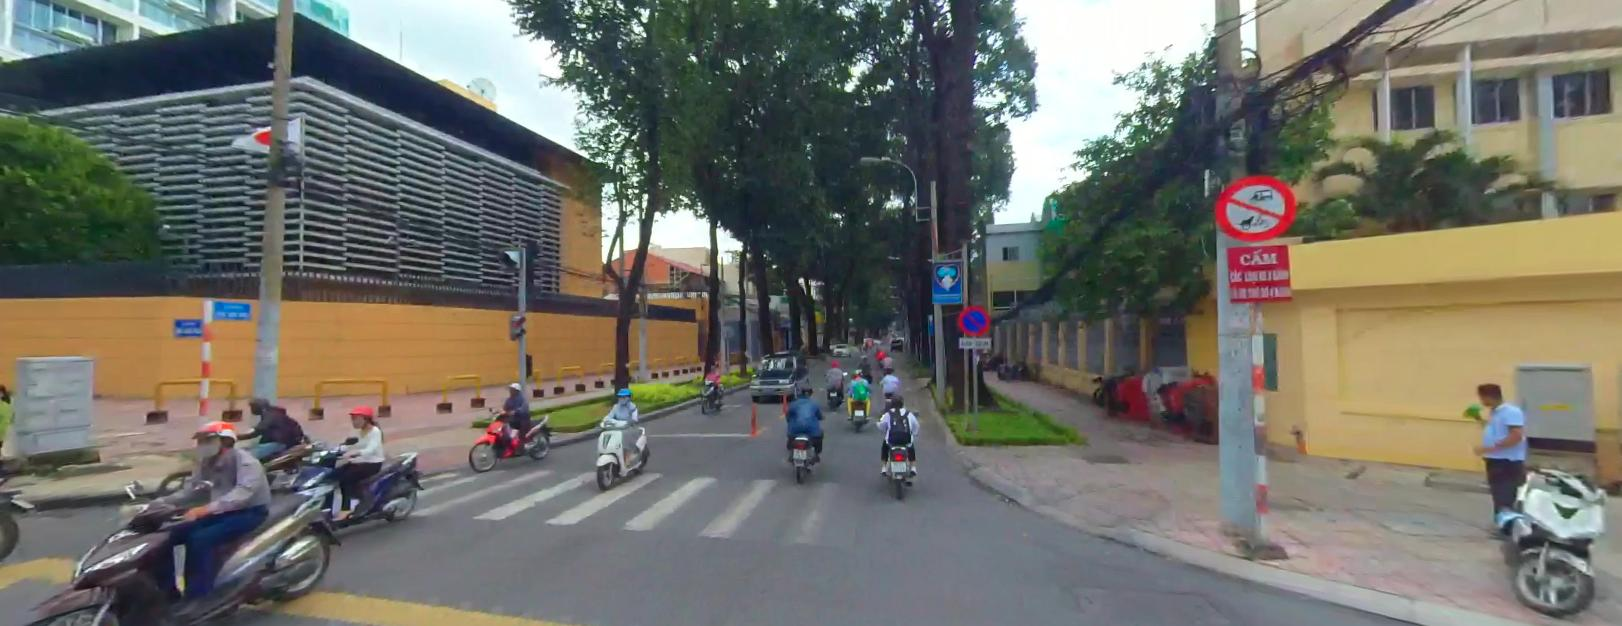Cam con lai: (1216, 169, 1296, 242)
Cam dung va do: (957, 301, 991, 334)
